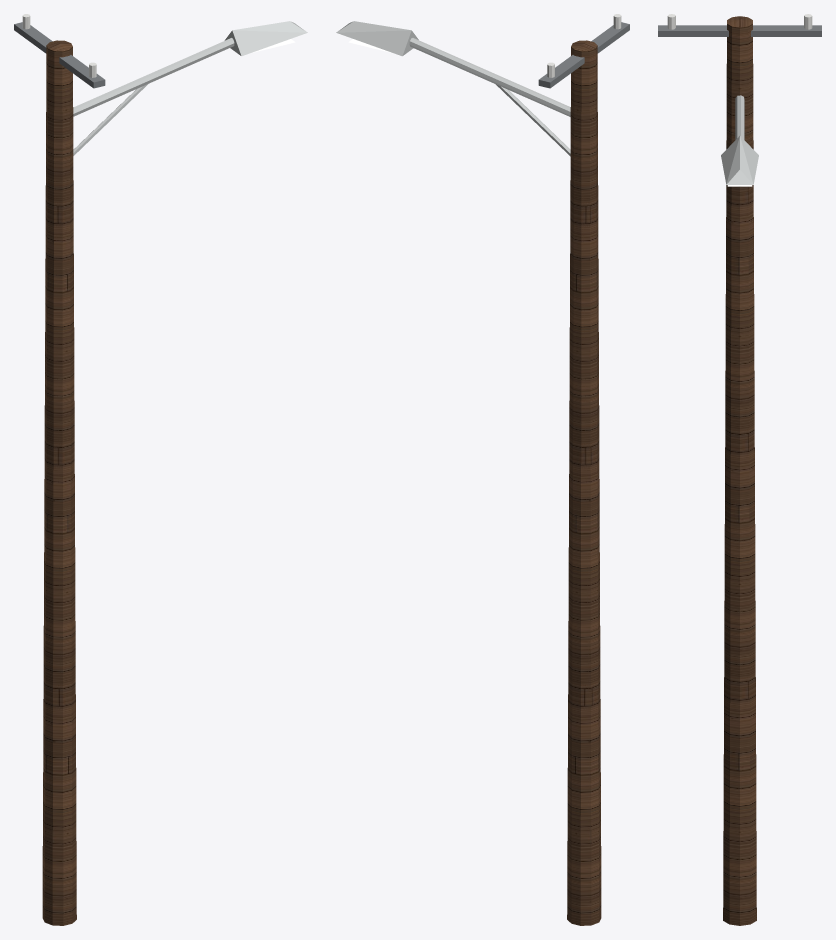
File: street_light.glb
3 renders of one model, left to right at view 1: azimuth 30°, elevation 25°; view 2: azimuth 150°, elevation 25°; view 3: azimuth 270°, elevation 25°, orthographic. The views are drawn at different scales.
Parts seen in each view (by area): view 1: street_light_dkwood, street_light_galv, street_light_steel_d; view 2: street_light_dkwood, street_light_galv, street_light_steel_d; view 3: street_light_dkwood, street_light_galv, street_light_steel_d.
Boxes of the visible parts, <box> form: street_light_dkwood: <box>42,40,76,925</box>; street_light_galv: <box>73,21,307,155</box>; street_light_steel_d: <box>14,22,105,88</box>; street_light_dkwood: <box>567,40,601,925</box>; street_light_galv: <box>336,21,570,156</box>; street_light_steel_d: <box>538,22,629,88</box>; street_light_dkwood: <box>723,16,756,925</box>; street_light_galv: <box>721,95,758,184</box>; street_light_steel_d: <box>658,25,821,36</box>.
Bounding box in the file's own units: 2.23 × 7.3 × 1.2.
5 materials, 1 textured.
